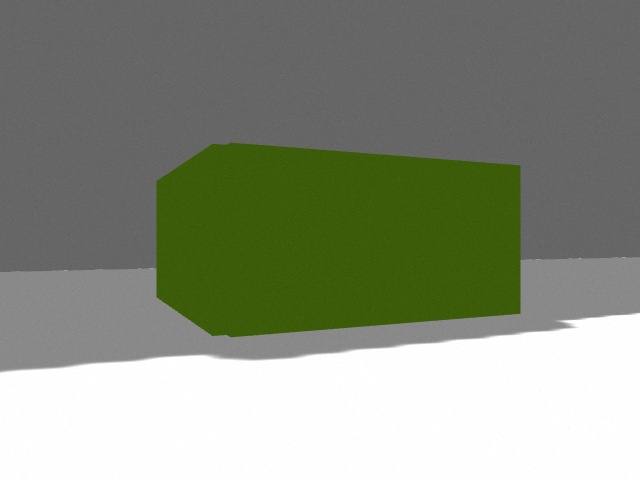green_drop_zone: (156, 143, 521, 337)
